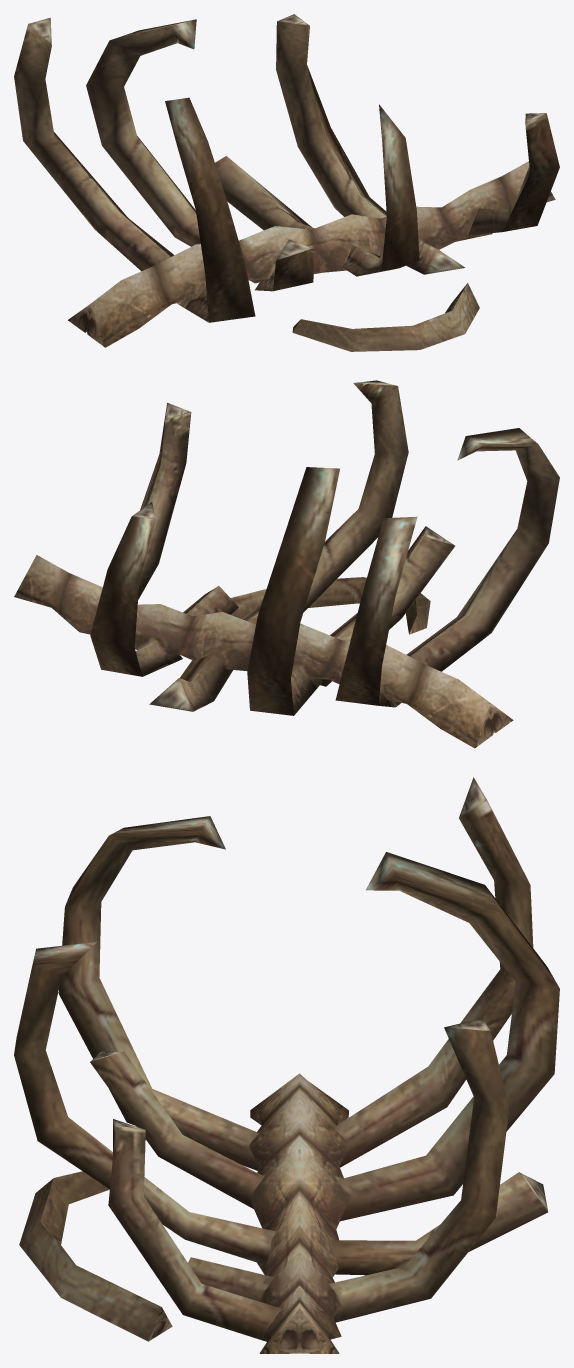
Rendered from Bone01.FBX.
The picture shows the model from 3 angles, top to bottom: view 1: azimuth 30°, elevation 25°; view 2: azimuth 150°, elevation 25°; view 3: azimuth 270°, elevation 25°; orthographic projection. The views are drawn at different scales.
Visible parts, largest first — view 1: Bone01; view 2: Bone01; view 3: Bone01.
Part boxes in pixels (x1=…): Bone01: x1=14, y1=14, x2=559, y2=351; Bone01: x1=14, y1=380, x2=559, y2=748; Bone01: x1=14, y1=777, x2=559, y2=1353.
Size of the model in its own units: 96.49 by 55.44 by 77.01.
